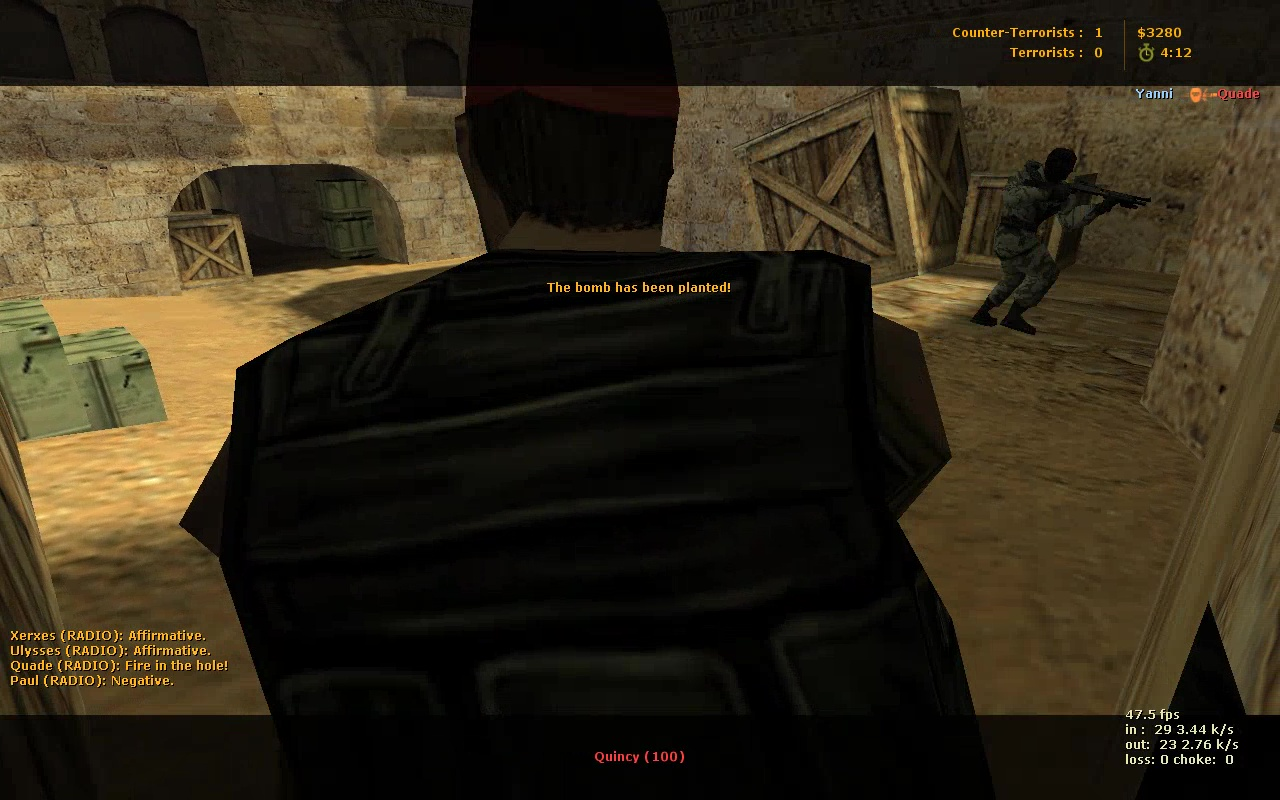terr2: (971, 143, 1112, 343)
